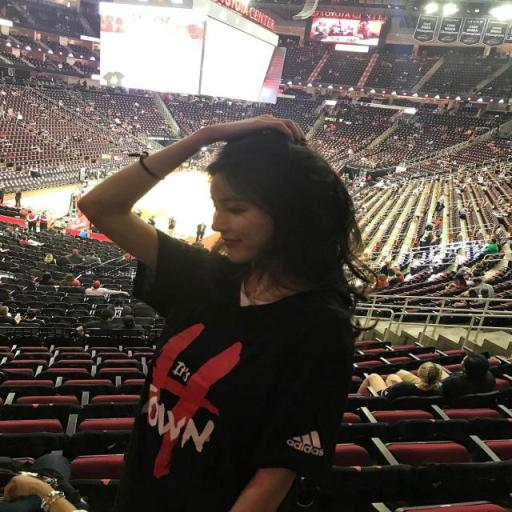Adidas: (285, 429, 325, 456)
